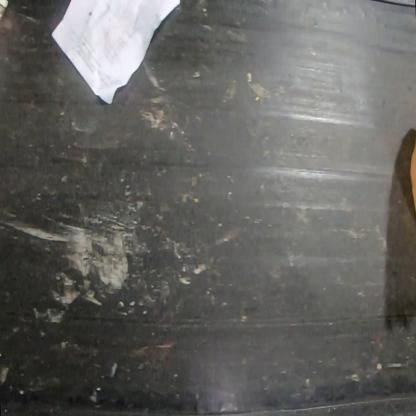soft_plastic: (409, 142, 415, 217)
